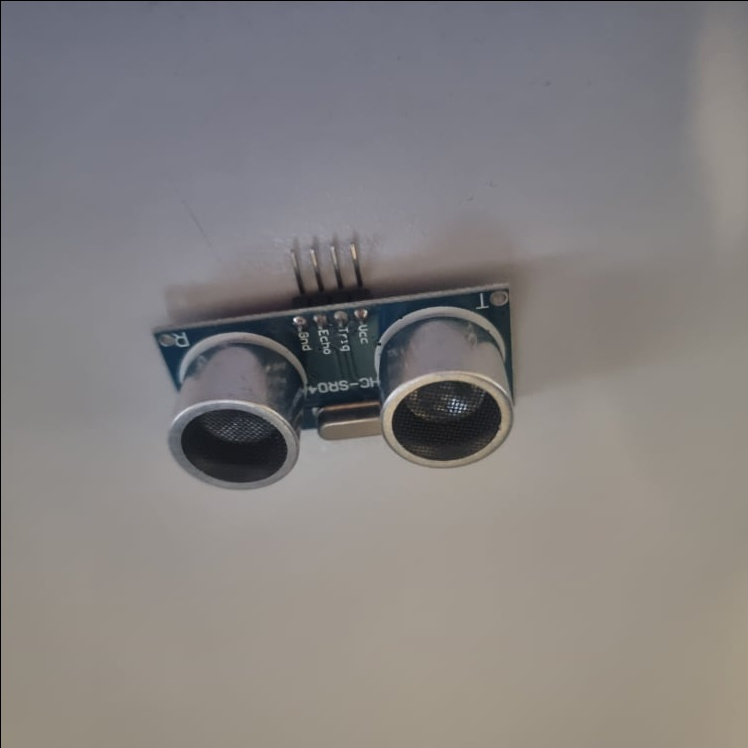SENSOR: (146, 245, 513, 489)
